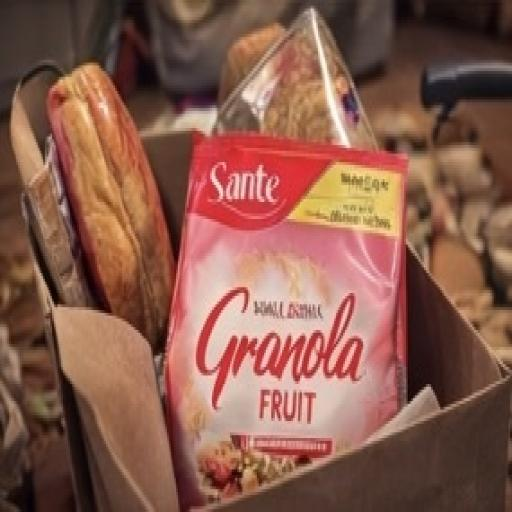granola: (165, 113, 408, 483)
